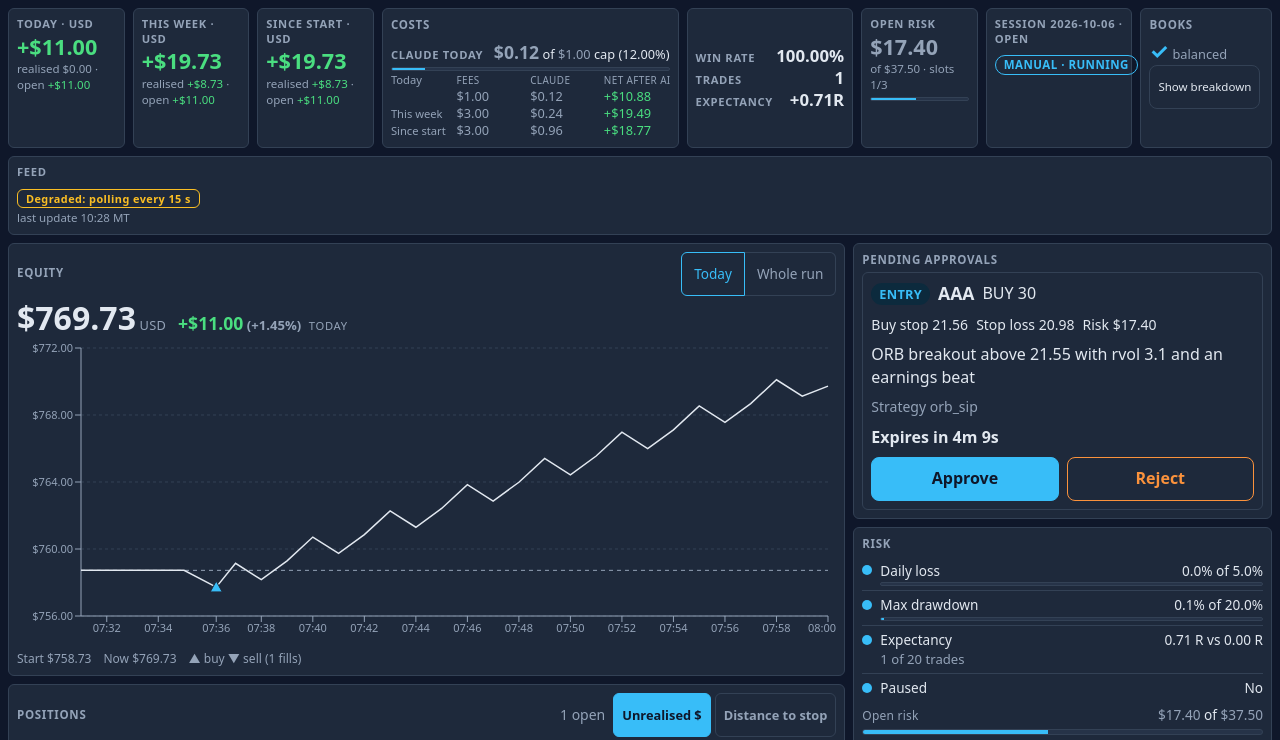
Test: carried over: approvals › approving refetches the live data
Expected: the element named "Session" is shown, [8,8,1272,234]
Click the button "Approve": (965, 479) [871,457,1059,501]
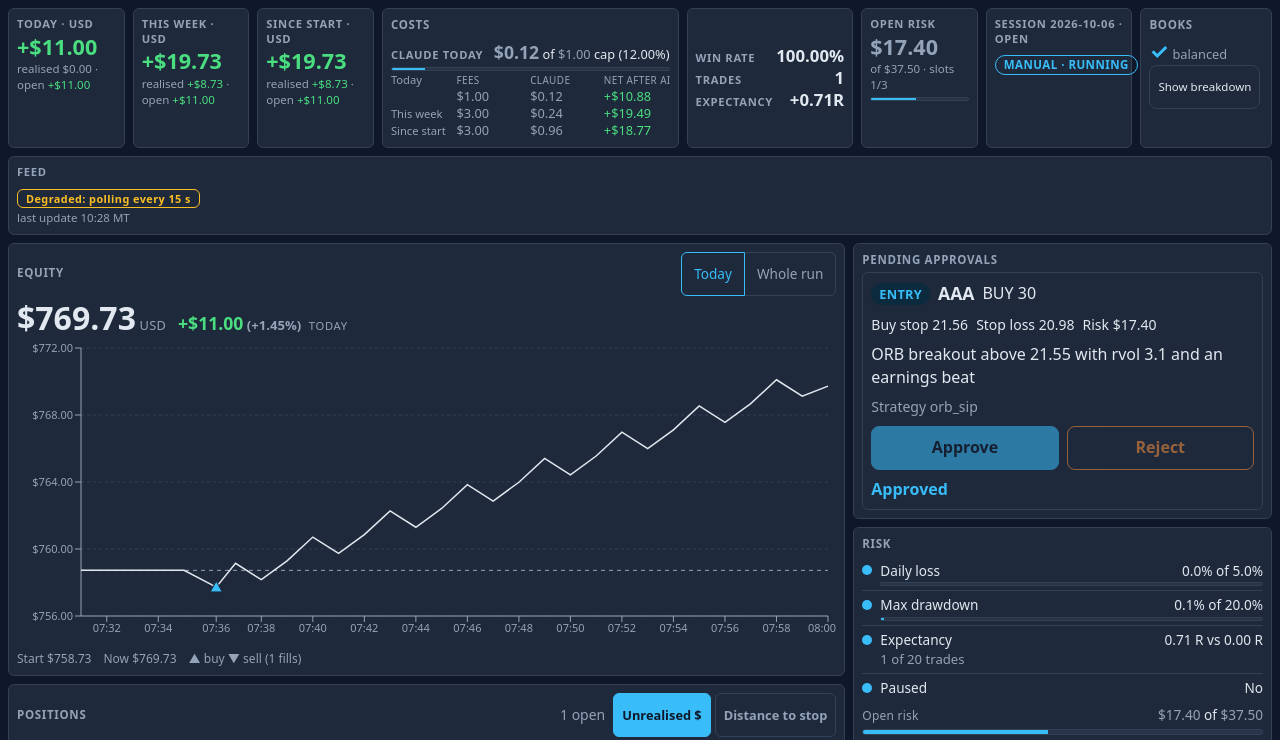
Result: the text "Approved" is shown at [871,478,948,500]
